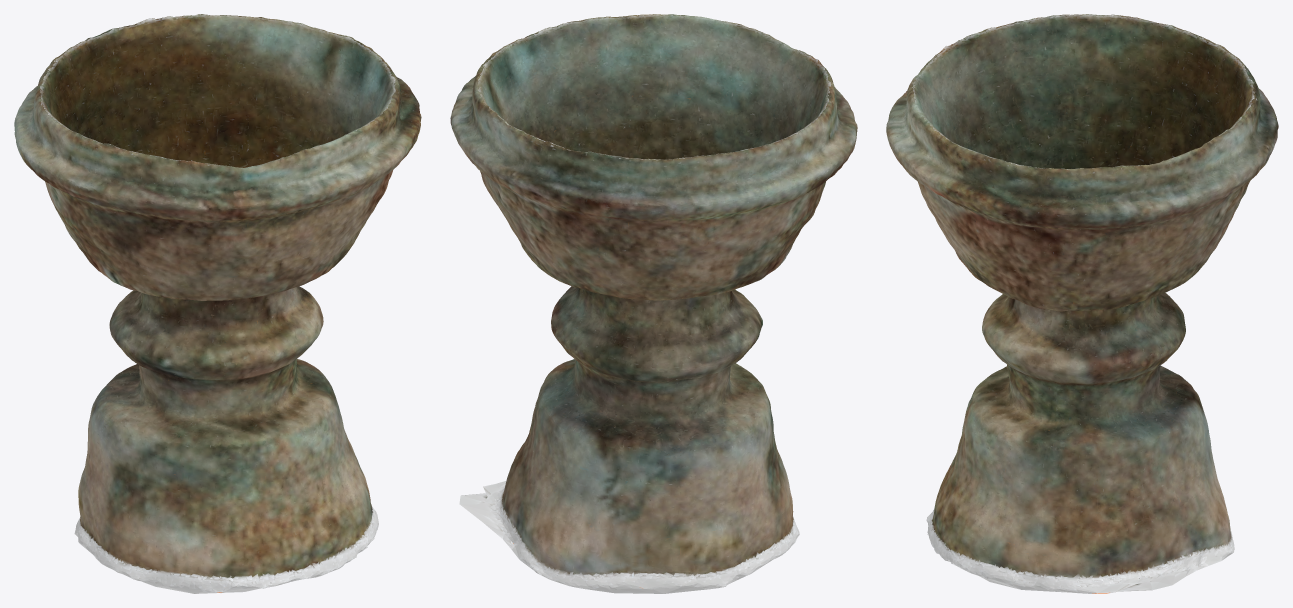
The model's file is reconstructed-partial.glb.
The picture shows the model from 3 angles, left to right: view 1: azimuth 30°, elevation 25°; view 2: azimuth 150°, elevation 25°; view 3: azimuth 270°, elevation 25°; orthographic projection.
Visible parts, largest first — view 1: node; view 2: node; view 3: node.
Boxes of the visible parts, box(x1,y1,x2,y2) form: node: box(14, 14, 421, 593); node: box(450, 14, 857, 593); node: box(886, 14, 1278, 593).
Bounding box in the file's own units: 5.76 × 6.91 × 5.44.
1 material, 1 textured.
